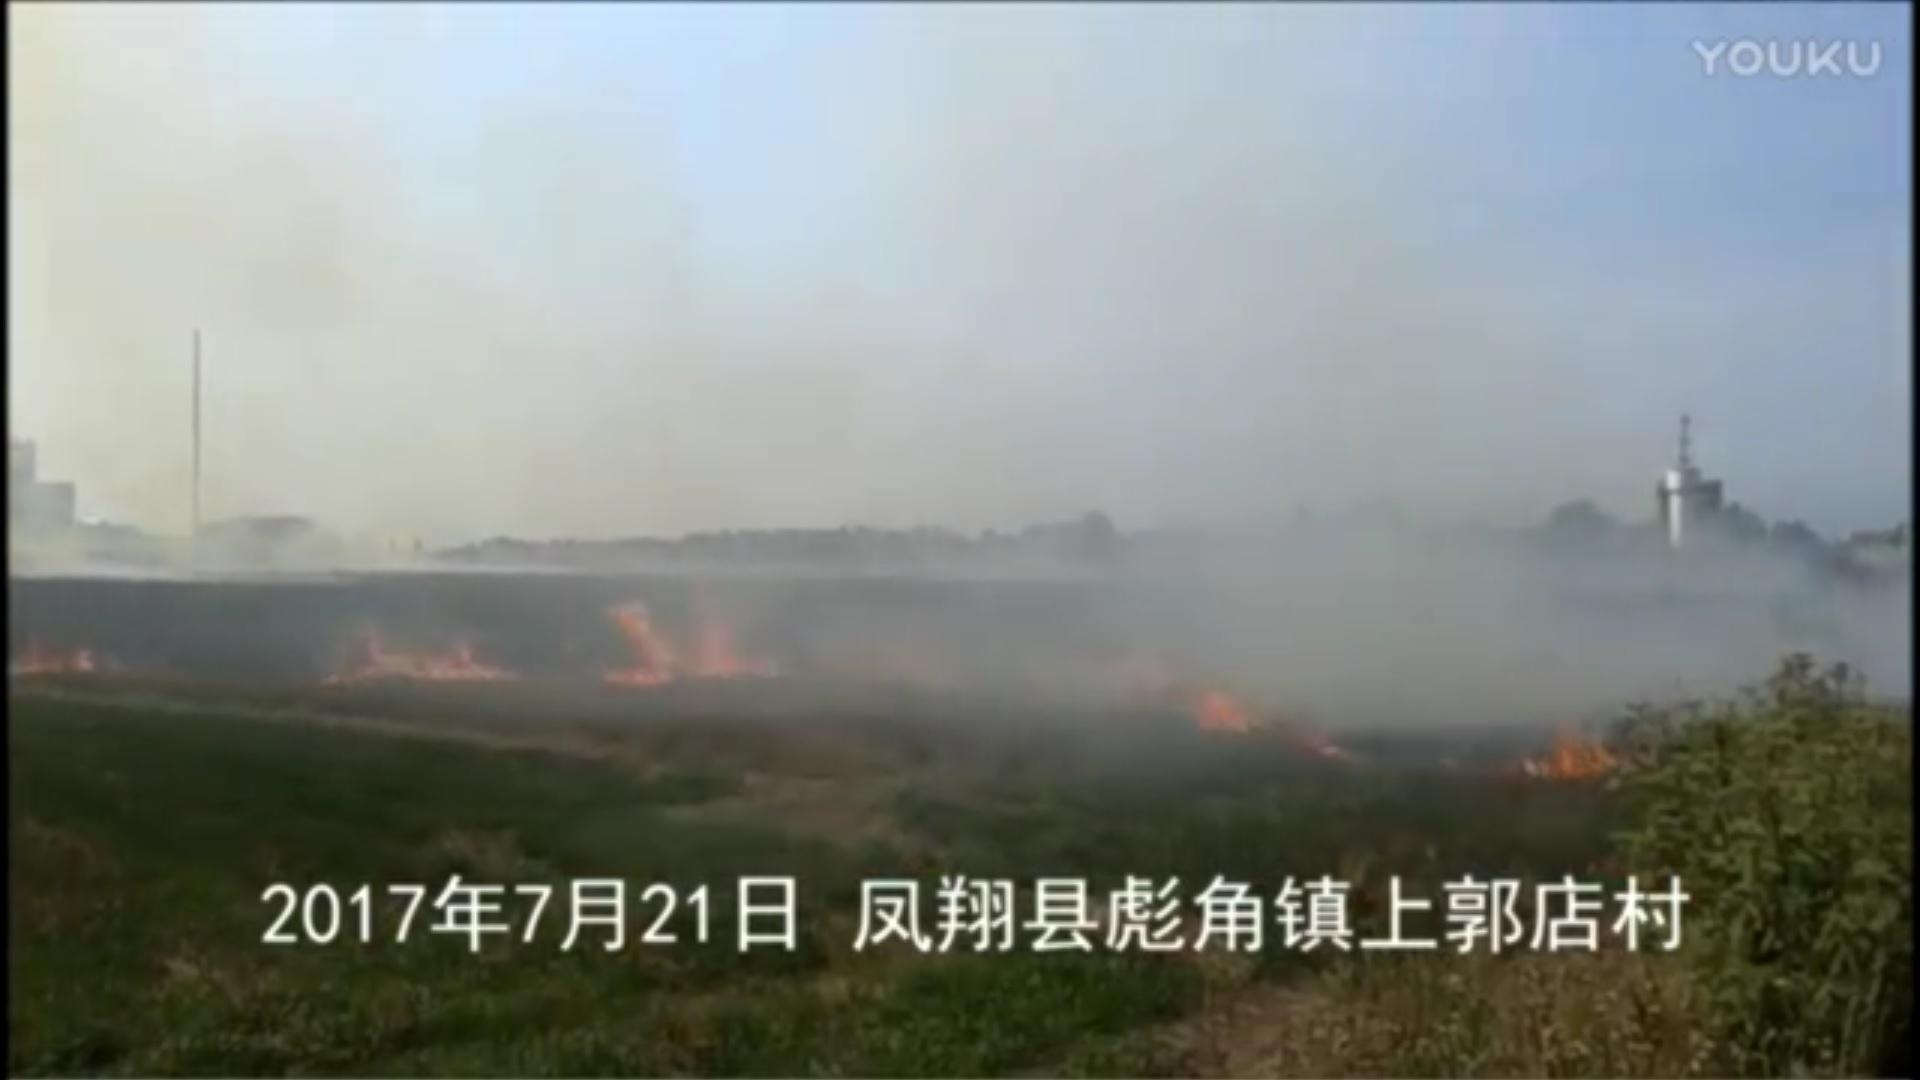fire: (603, 601, 775, 687), (322, 622, 513, 688), (1178, 683, 1345, 745), (1518, 725, 1623, 782), (16, 634, 103, 676)
